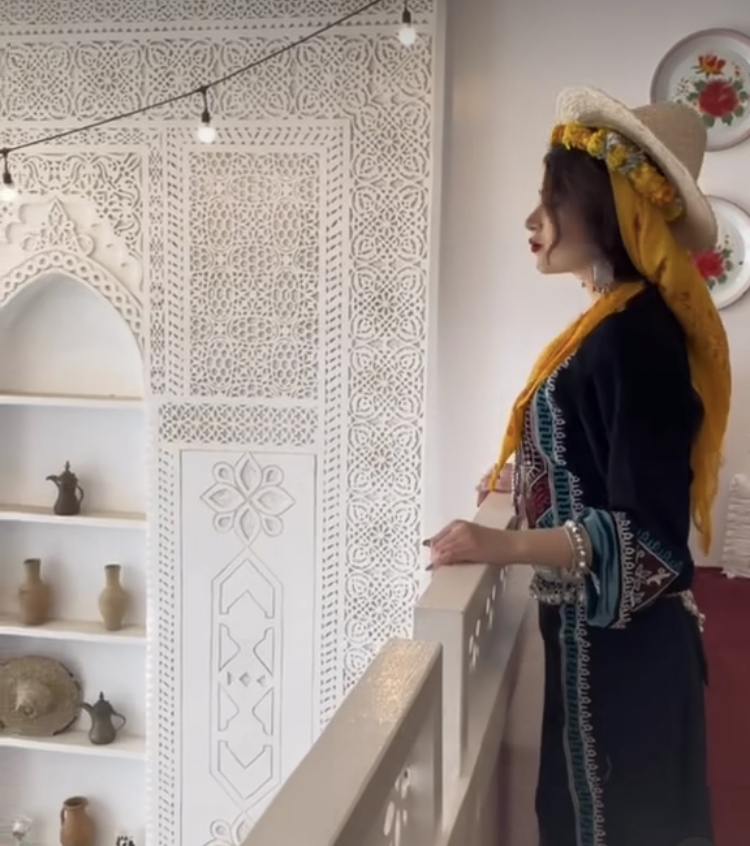Saudi_Founding_Day: (420, 79, 738, 846)
